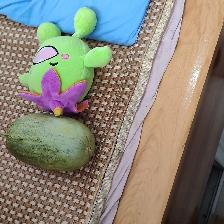gua: (9, 119, 93, 168)
